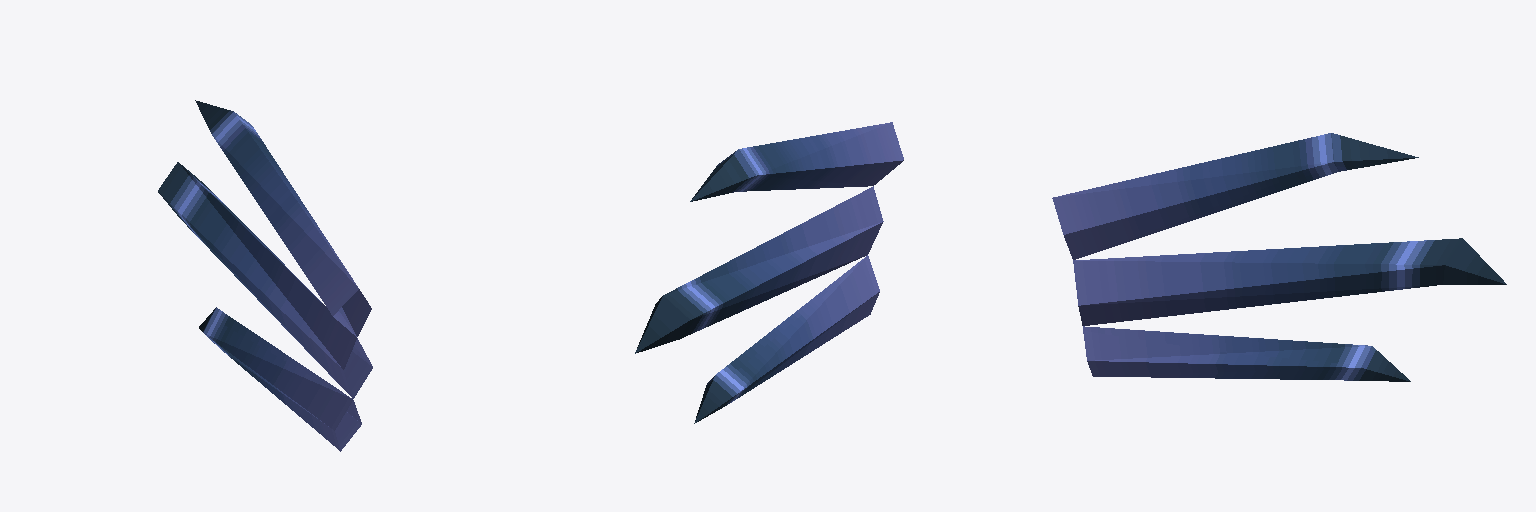
3 views of the same model, side by side, from view 1: azimuth 30°, elevation 25°; view 2: azimuth 150°, elevation 25°; view 3: azimuth 270°, elevation 25° (orthographic).
Visible parts, largest first — view 1: SPIKESout; view 2: SPIKESout; view 3: SPIKESout.
Boxes of the visible parts, x1,y1,x2,y2 form: SPIKESout: [158, 100, 372, 451]; SPIKESout: [635, 122, 903, 423]; SPIKESout: [1052, 133, 1506, 381].
Size of the model in its own units: 0.0418 by 0.1672 by 0.2762.
1 materials, 1 textured.